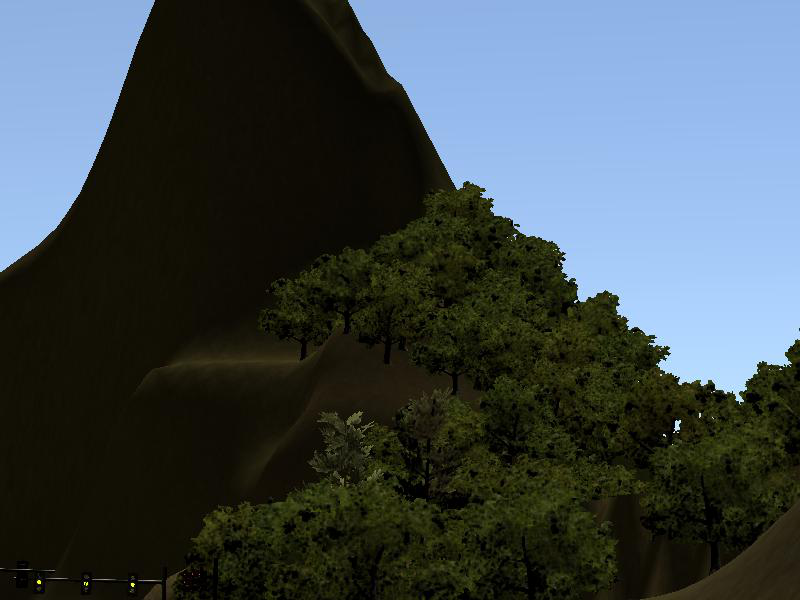yellow: (78, 569, 93, 595), (34, 569, 46, 594), (127, 573, 139, 595)
